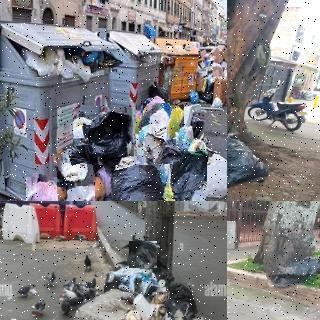Garbage: (105, 141, 172, 201), (73, 106, 136, 166), (227, 129, 268, 187), (165, 149, 210, 201), (135, 118, 177, 165), (264, 253, 320, 288), (55, 147, 95, 189), (202, 151, 227, 201), (23, 175, 69, 201), (167, 278, 197, 317), (128, 240, 159, 270), (58, 181, 95, 201), (142, 102, 171, 125), (168, 105, 184, 139)
